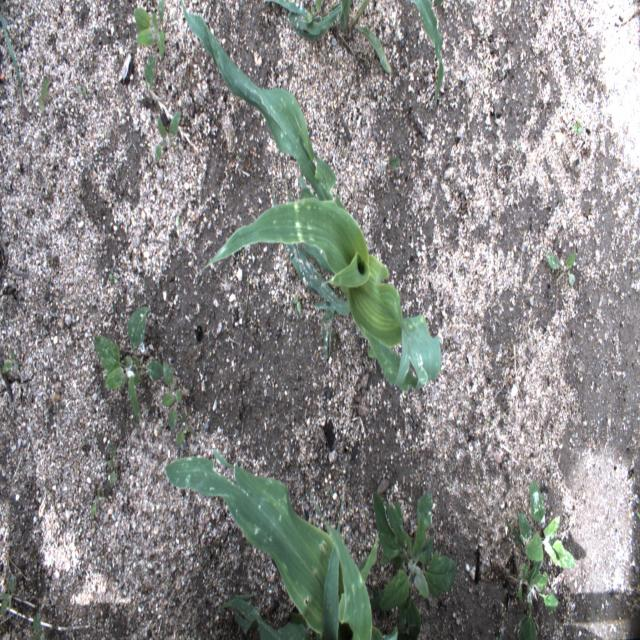crop: (178, 0, 440, 392), (164, 448, 397, 639), (264, 0, 393, 73), (410, 0, 444, 106), (436, 0, 444, 6)
weed: (372, 491, 457, 638), (503, 479, 577, 639), (93, 307, 165, 422), (133, 0, 165, 91), (0, 9, 24, 105), (162, 358, 184, 432), (154, 111, 182, 165), (545, 252, 576, 287), (175, 409, 197, 445), (1, 572, 14, 614), (2, 344, 18, 374), (107, 441, 117, 488), (37, 76, 49, 115), (91, 490, 106, 520), (378, 155, 401, 173), (304, 0, 321, 23), (32, 612, 45, 638), (292, 294, 302, 316), (78, 86, 92, 97), (574, 117, 582, 133), (108, 274, 119, 285), (176, 213, 181, 228), (326, 486, 334, 495), (45, 486, 50, 494), (515, 142, 519, 152), (487, 417, 490, 429)
